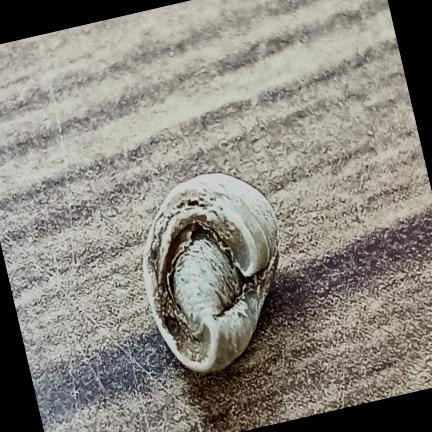broken: (143, 173, 279, 372)
